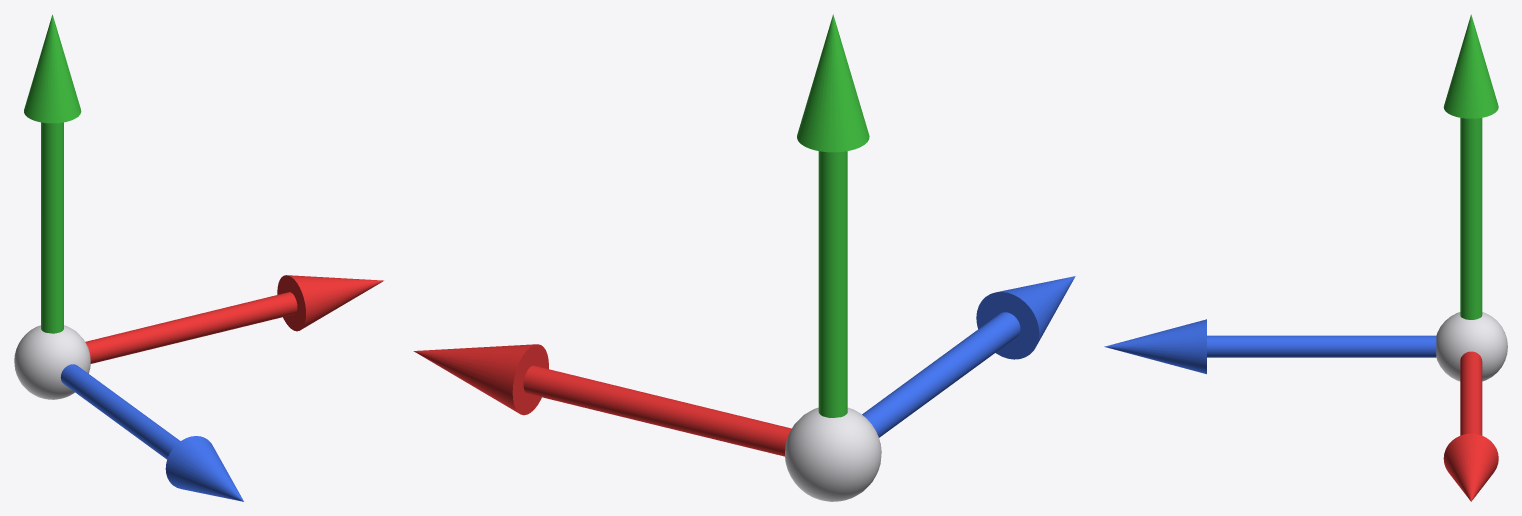
The model's file is axes.obj.
The picture shows the model from 3 angles, left to right: view 1: azimuth 30°, elevation 25°; view 2: azimuth 150°, elevation 25°; view 3: azimuth 270°, elevation 25°; orthographic projection. The views are drawn at different scales.
Parts seen in each view (by area): view 1: axis_y, axis_x, axis_z, center; view 2: axis_y, axis_x, axis_z, center; view 3: axis_z, axis_y, axis_x, center.
Boxes of the visible parts, left/top/right/bottom form: axis_y: left=24, top=14, right=81, bottom=333; axis_x: left=85, top=275, right=383, bottom=363; axis_z: left=60, top=364, right=243, bottom=501; center: left=14, top=325, right=90, bottom=399; axis_y: left=797, top=14, right=869, bottom=417; axis_x: left=413, top=344, right=791, bottom=456; axis_z: left=862, top=276, right=1075, bottom=437; center: left=785, top=407, right=881, bottom=501; axis_z: left=1104, top=319, right=1436, bottom=374; axis_y: left=1443, top=14, right=1498, bottom=319; axis_x: left=1443, top=351, right=1498, bottom=501; center: left=1436, top=312, right=1507, bottom=381.
Size of the model in its own units: 1.1 by 1.1 by 1.1.
